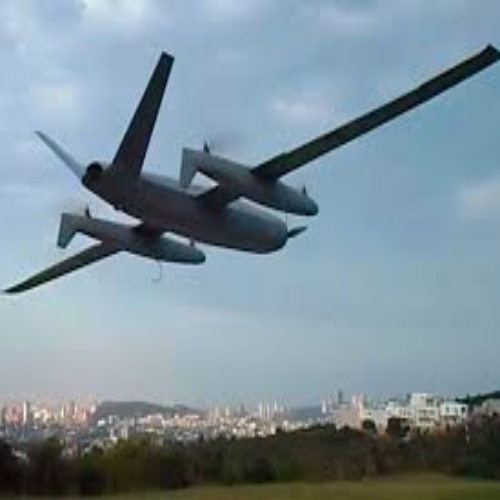uav504: (3, 46, 500, 299)
